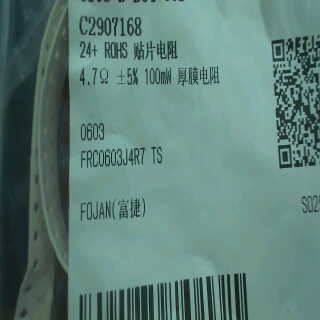4.7R: (75, 64, 113, 89)
